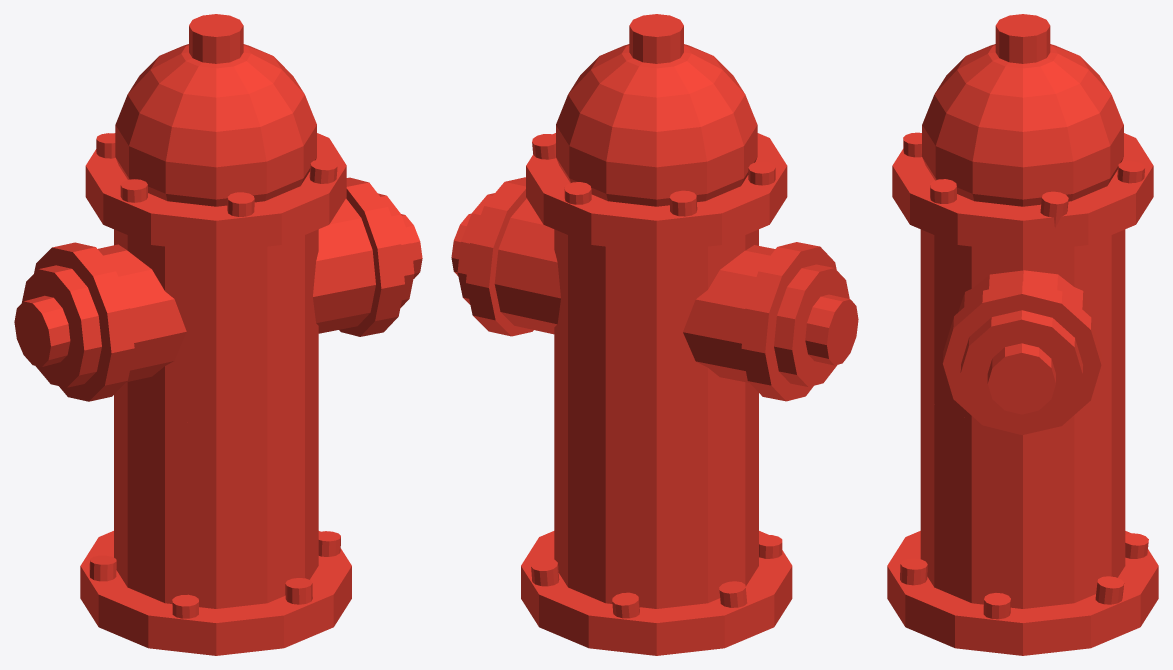
Rendered from hydrant.glb.
The picture shows the model from 3 angles, left to right: view 1: azimuth 30°, elevation 25°; view 2: azimuth 150°, elevation 25°; view 3: azimuth 270°, elevation 25°; orthographic projection.
Parts seen in each view (by area): view 1: group690755720, group1638519671, group1883035771, group165085386, group1740983134, group881577816, group915003088, group89111452, group575483644, group746141127, group1398094680, group1243545241 (+7 smaller); view 2: group690755720, group1638519671, group1883035771, group165085386, group1740983134, group881577816, group915003088, group89111452, group575483644, group746141127, group1398094680, group1243545241 (+6 smaller); view 3: group690755720, group1883035771, group1638519671, group165085386, group1740983134, group746141127, group102476712, group388367076, group1243545241, group881577816, group213327429, group1887225455 (+6 smaller).
Part boxes in pixels (<box>): group690755720: <box>114,383,318,608</box>; group1638519671: <box>114,229,318,425</box>; group1883035771: <box>115,44,316,206</box>; group165085386: <box>80,531,351,655</box>; group1740983134: <box>85,133,346,252</box>; group881577816: <box>313,198,375,333</box>; group915003088: <box>34,242,134,401</box>; group89111452: <box>98,244,186,381</box>; group575483644: <box>22,265,101,387</box>; group746141127: <box>339,177,404,336</box>; group1398094680: <box>14,295,70,366</box>; group1243545241: <box>189,14,243,63</box>; group690755720: <box>554,383,758,608</box>; group1638519671: <box>554,229,758,425</box>; group1883035771: <box>556,44,757,206</box>; group165085386: <box>521,531,792,655</box>; group1740983134: <box>526,133,787,252</box>; group881577816: <box>494,198,560,334</box>; group915003088: <box>741,242,836,401</box>; group89111452: <box>683,245,775,382</box>; group575483644: <box>774,264,849,386</box>; group746141127: <box>466,177,533,336</box>; group1398094680: <box>805,294,858,365</box>; group1243545241: <box>629,14,683,63</box>; group690755720: <box>920,383,1125,608</box>; group1883035771: <box>922,44,1123,206</box>; group1638519671: <box>920,229,1125,420</box>; group165085386: <box>887,531,1158,655</box>; group1740983134: <box>892,133,1153,252</box>; group746141127: <box>942,281,1101,435</box>; group102476712: <box>960,310,1082,428</box>; group388367076: <box>987,343,1055,414</box>; group1243545241: <box>995,14,1050,63</box>; group881577816: <box>958,270,1092,319</box>; group213327429: <box>1095,576,1124,604</box>; group1887225455: <box>1040,191,1068,227</box>.
Bounding box in the file's own units: 0.3169 × 0.4632 × 0.1989.
